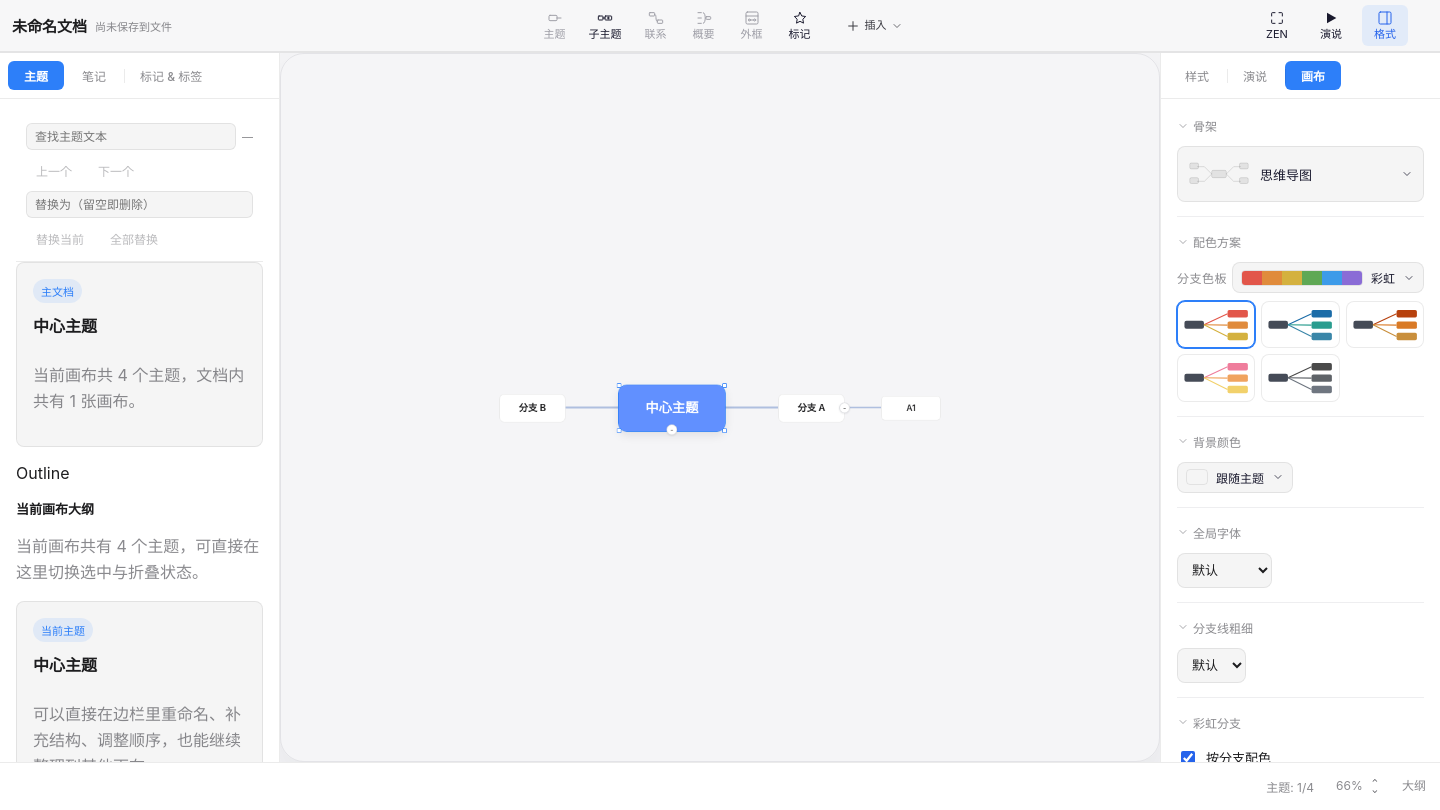
Scenario: enters presentation mode, advances slides, and exits via controls
Click the button "演说" at [1331, 26], box [1308,5,1354,46]
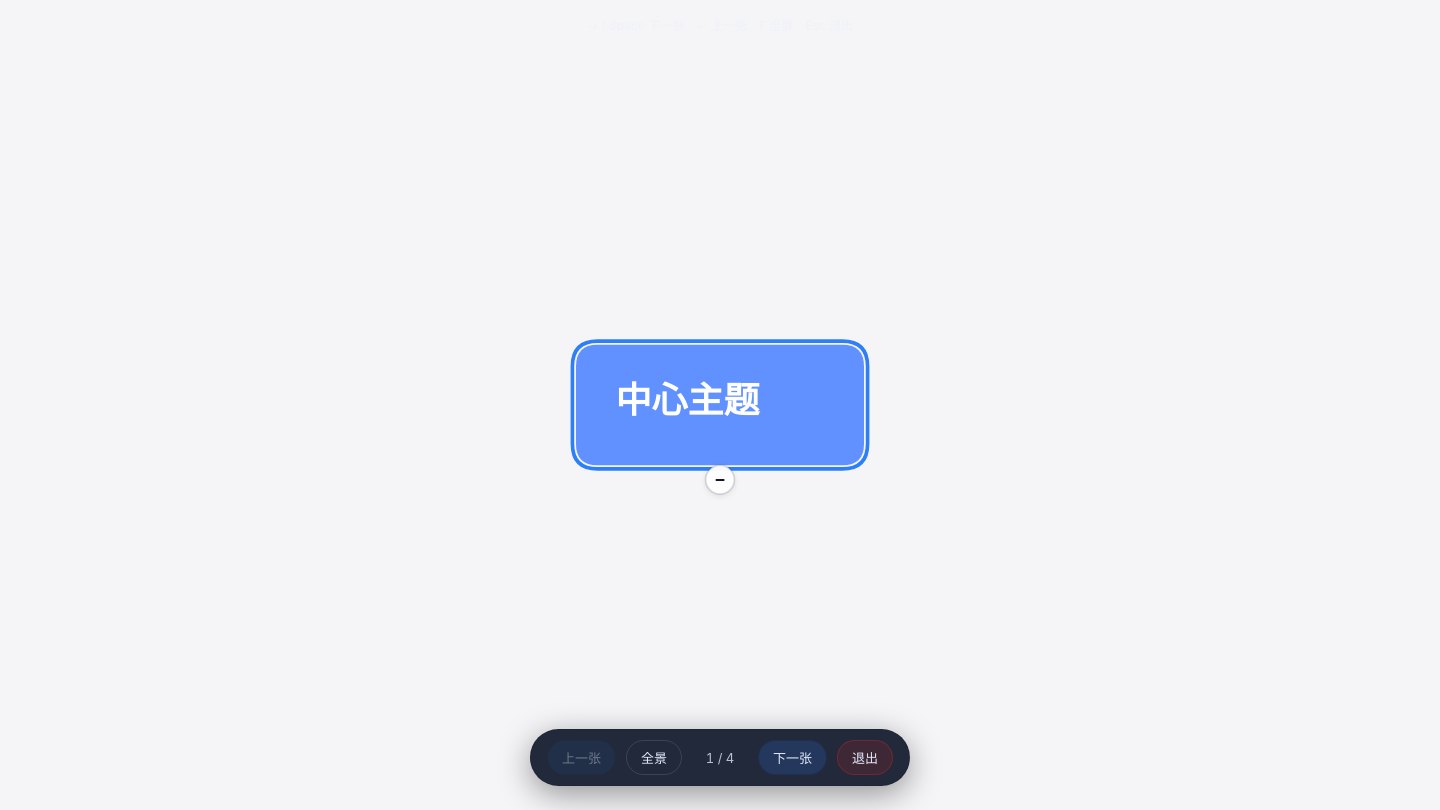
Expected: the text "1 / 4" is shown, [706,750,734,766]
Click the button "下一张" at [792, 758], box [758,740,827,775]
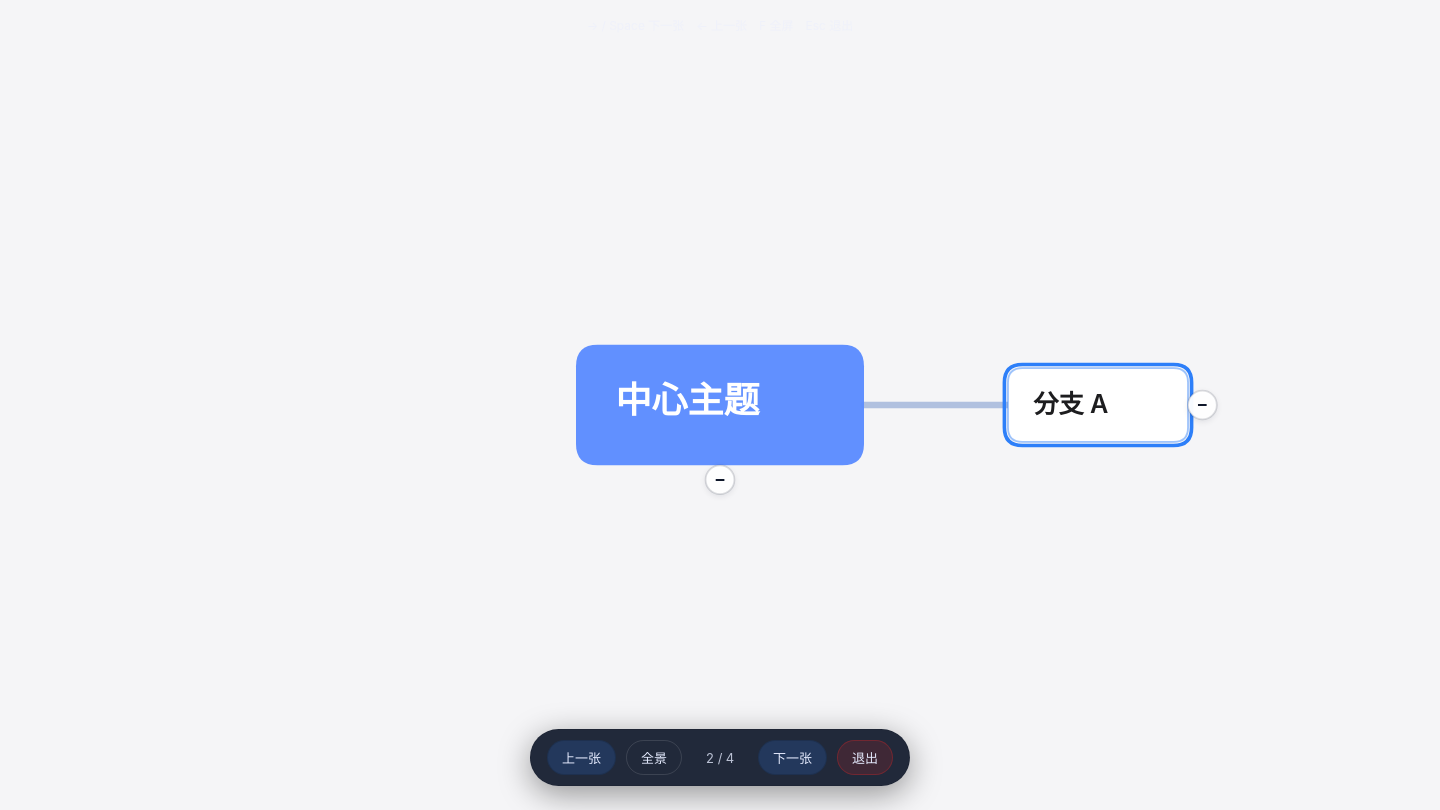
Expected: the text "2 / 4" is shown, [706,750,734,766]
Click the button "上一张" at [582, 758], box [547,740,616,775]
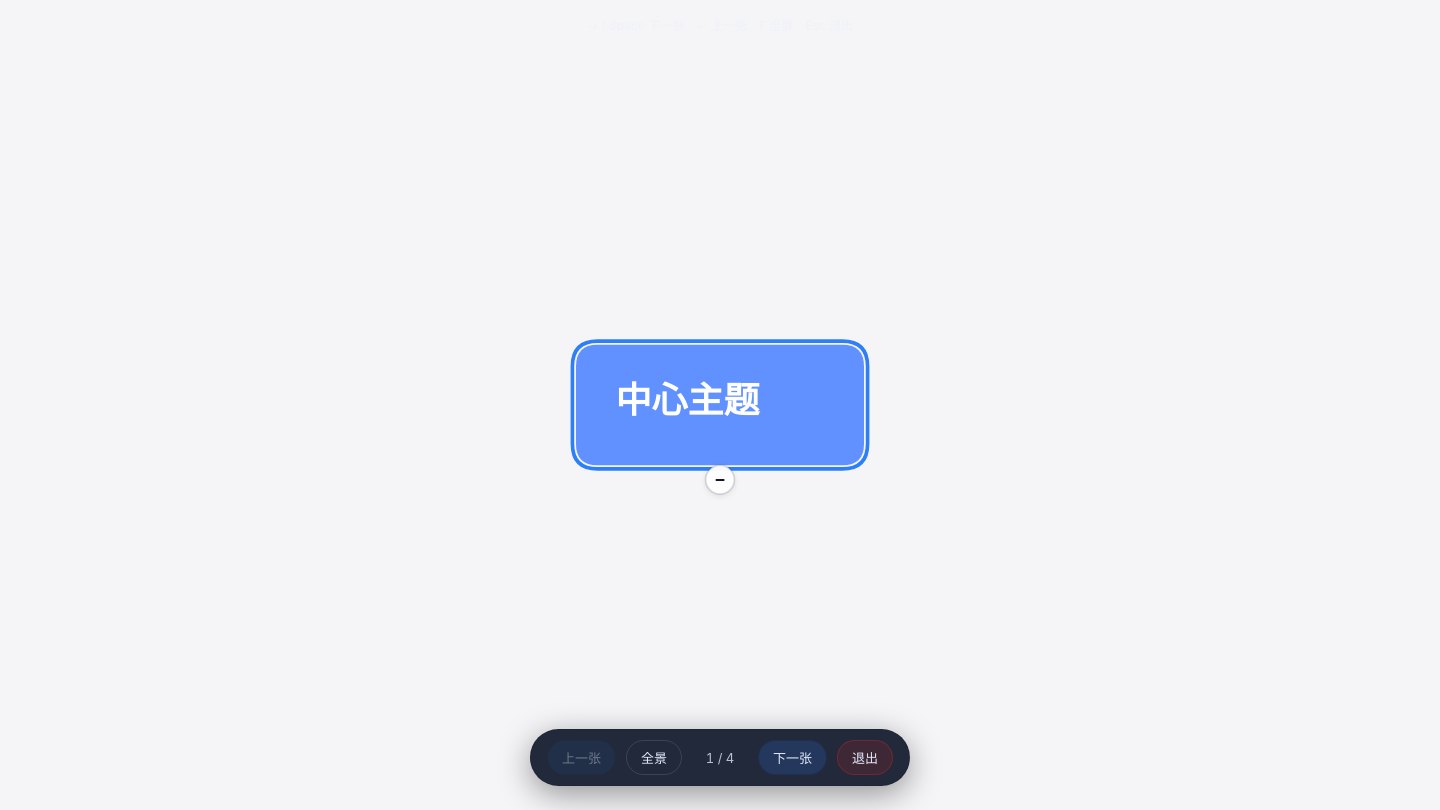
Expected: the text "1 / 4" is shown, [706,750,734,766]
Click the button "退出" at [865, 758], box [837,740,893,775]
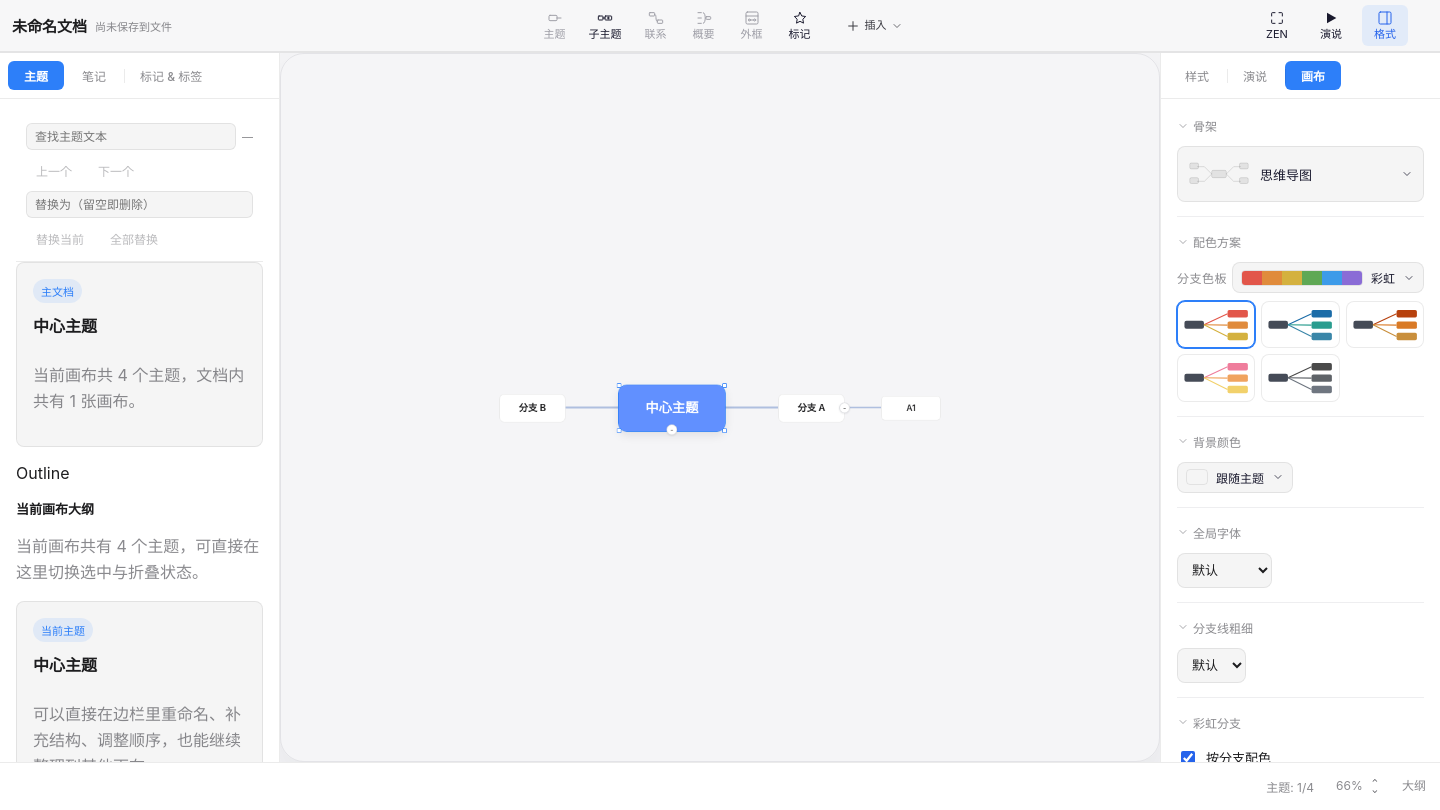
Expected: the dialog "演示模式" is gone
